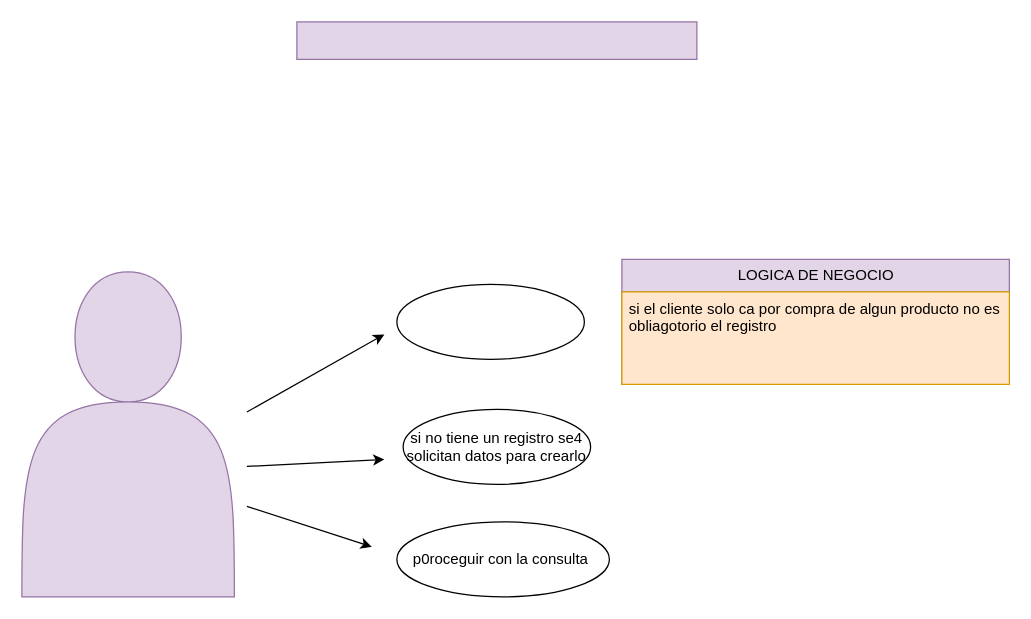
The diagram is 1031 pixels wide and 619 high, and some of its shapes have lost their labels. Here are the shapes that lost their labels. From the top down, the centre of each, then its label:
(x=496, y=40): CASO DE USO DUEÑO
(x=490, y=321): verificar si el dueño de la mascota tiene un registo
